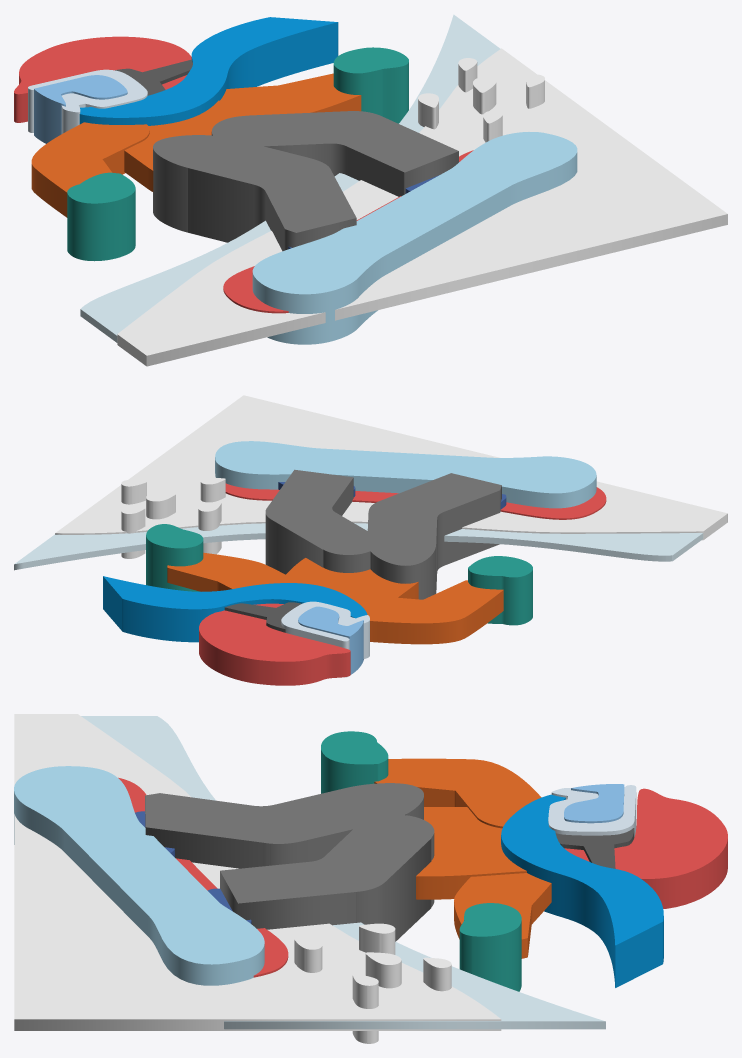
Rendered from emoji_u1f3c2_1f3fc.glb.
3 views of the same model, one above another, from view 1: azimuth 30°, elevation 25°; view 2: azimuth 150°, elevation 25°; view 3: azimuth 270°, elevation 25° (orthographic). The views are drawn at different scales.
Visible parts, largest first — view 1: emoji_u1f3c2_1f3fc; view 2: emoji_u1f3c2_1f3fc; view 3: emoji_u1f3c2_1f3fc.
Boxes of the visible parts, x1,y1,x2,y2 form: emoji_u1f3c2_1f3fc: [14, 14, 727, 366]; emoji_u1f3c2_1f3fc: [14, 395, 727, 685]; emoji_u1f3c2_1f3fc: [14, 714, 727, 1043].
Size of the model in its own units: 0.0338 by 0.0036 by 0.0334.
